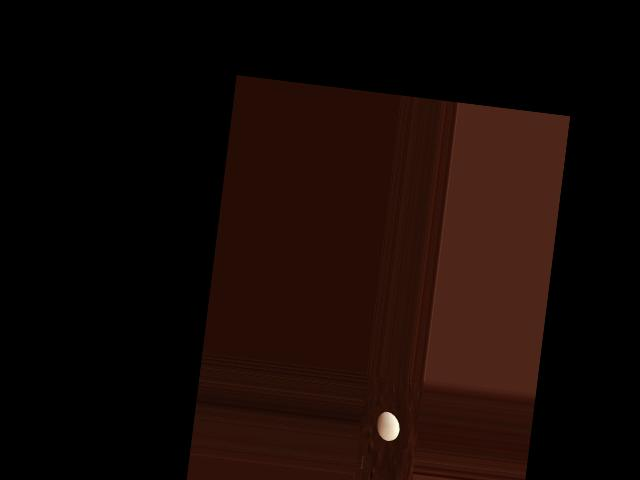egg: (375, 410, 401, 441)
